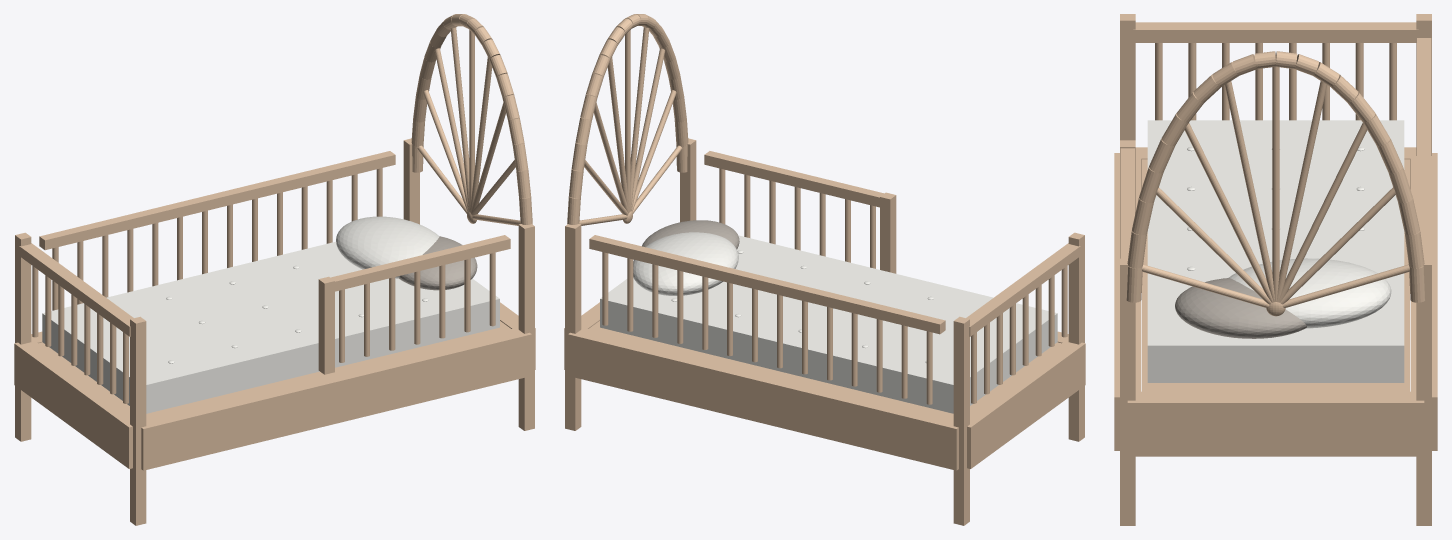
File: tootoo1_oak_kids.glb
3 renders of one model, left to right at view 1: azimuth 30°, elevation 25°; view 2: azimuth 150°, elevation 25°; view 3: azimuth 270°, elevation 25°, orthographic. The views are drawn at different scales.
Visible parts, largest first — view 1: Mattress, Front_Apron, Foot_Apron, Rear_Guard_Top_Rail, Pillow_Ivory, Foot_Front_Post, Head_Front_Post, Front_Guard_Top_Rail, Foot_Back_Post, Foot_Top_Rail, Mattress_Support, Front_Guard_Opening_Post (+8 smaller); view 2: Mattress, Back_Apron, Foot_Apron, Rear_Guard_Top_Rail, Pillow_Ivory, Foot_Back_Post, Head_Back_Post, Front_Guard_Top_Rail, Foot_Front_Post, Foot_Top_Rail, Mattress_Support, Front_Guard_Opening_Post (+8 smaller); view 3: Mattress, Head_Apron, Foot_Top_Rail, Pillow_Ivory, Pillow_Gray, Mattress_Support, Head_Back_Post, Head_Front_Post, Rear_Guard_Top_Rail, Back_Apron, Front_Apron, Foot_Front_Post (+37 smaller).
Part boxes in pixels (x1,y1,x2,y2): Mattress: (42,241,499,413); Front_Apron: (141,329,531,470); Foot_Apron: (14,342,132,468); Rear_Guard_Top_Rail: (39,151,395,250); Pillow_Ivory: (336,216,439,278); Foot_Front_Post: (130,316,146,525); Head_Front_Post: (518,224,534,430); Front_Guard_Top_Rail: (330,235,510,291); Foot_Back_Post: (15,232,31,441); Foot_Top_Rail: (19,243,133,336); Mattress_Support: (38,321,510,417); Front_Guard_Opening_Post: (318,276,334,374); Mattress: (600,235,1057,413); Back_Apron: (568,327,958,470); Foot_Apron: (967,339,1085,468); Rear_Guard_Top_Rail: (589,235,945,334); Pillow_Ivory: (633,232,738,295); Foot_Back_Post: (953,316,969,525); Head_Back_Post: (565,224,581,430); Front_Guard_Top_Rail: (704,151,884,207); Foot_Front_Post: (1068,232,1084,441); Foot_Top_Rail: (966,243,1080,336); Mattress_Support: (589,321,1061,417); Front_Guard_Opening_Post: (880,192,896,273); Mattress: (1147,120,1404,382); Head_Apron: (1127,391,1424,456); Foot_Top_Rail: (1133,22,1418,42); Pillow_Ivory: (1228,258,1391,328); Pillow_Gray: (1175,278,1306,338); Mattress_Support: (1142,159,1409,391); Head_Back_Post: (1416,258,1431,525); Head_Front_Post: (1120,258,1135,525); Rear_Guard_Top_Rail: (1417,38,1431,258); Back_Apron: (1410,153,1437,450); Front_Apron: (1114,153,1141,450); Foot_Front_Post: (1120,14,1135,140).
Size of the model in its own units: 2.14 by 1.85 by 1.14.
